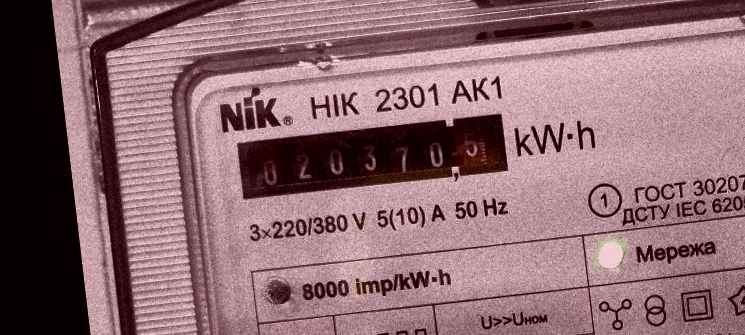0: (425, 138, 447, 170), (259, 156, 280, 186), (327, 146, 345, 175)
2: (293, 149, 314, 182)
3: (359, 141, 379, 173)
5: (460, 127, 482, 160)
7: (393, 143, 411, 175)
screen: (229, 104, 518, 211)
